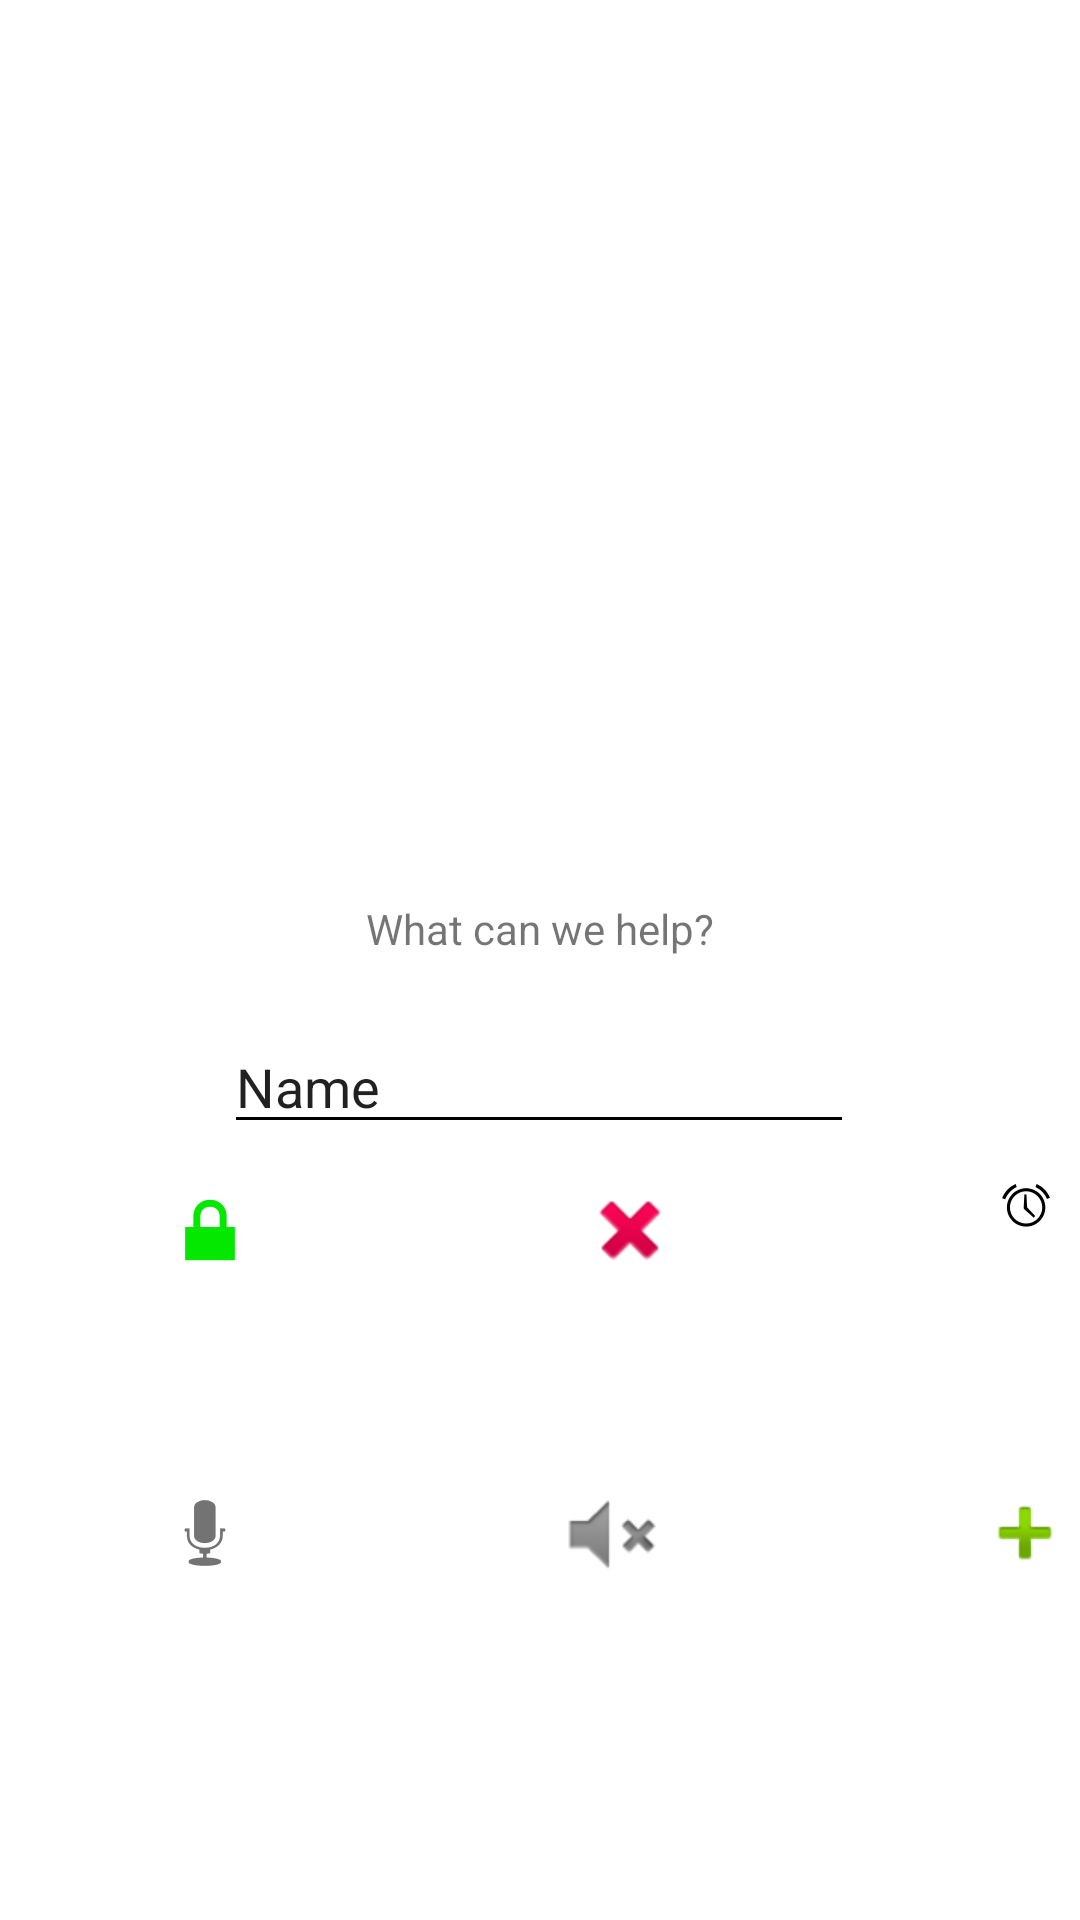

Icon click points for this 1080w x 1920h phone screenshot, format (x,y):
delete: (630,1230)
lock: (210,1230)
lock silent mode: (612,1534)
speak now: (205,1533)
